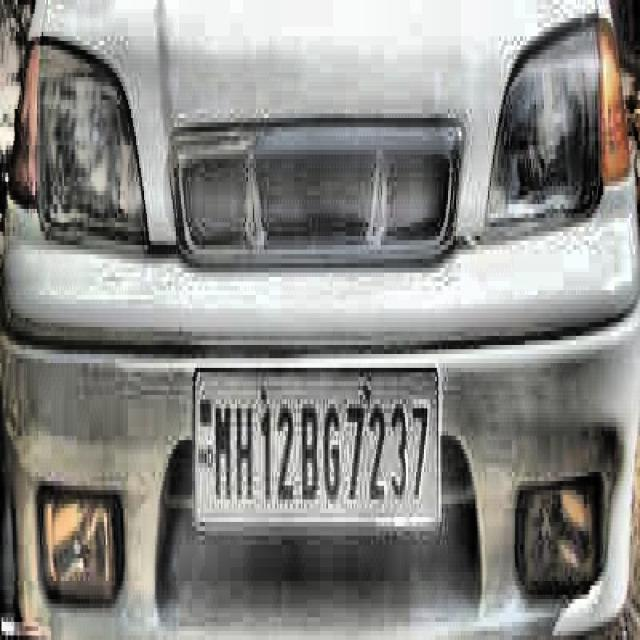license_plate: (190, 366, 442, 544)
